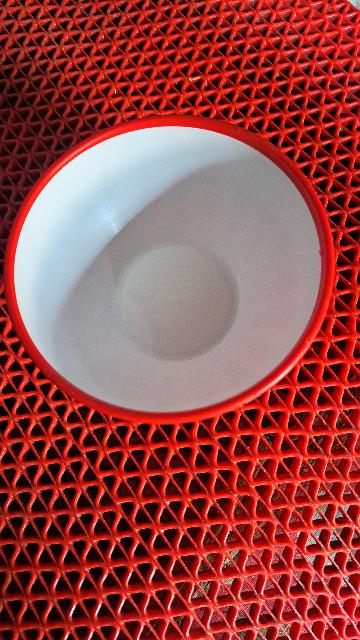hardplastic: (14, 118, 339, 420)
